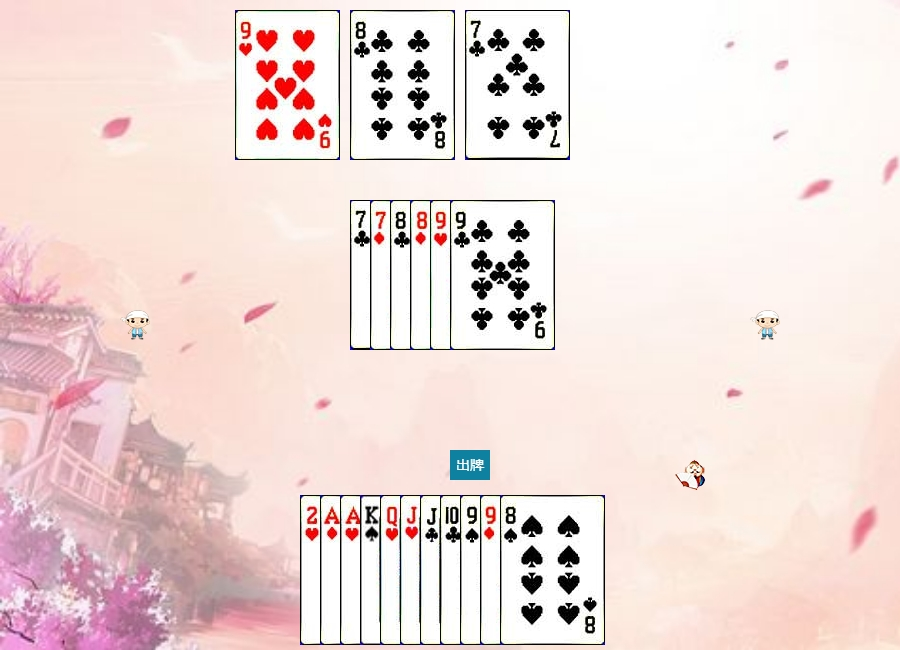10~2: (440, 495, 545, 645)
11~2: (420, 495, 525, 645)
11~3: (400, 495, 505, 645)
12~3: (380, 495, 485, 645)
13~4: (360, 495, 465, 645)
14~1: (320, 495, 425, 645)
14~3: (340, 495, 445, 645)
15~3: (300, 495, 405, 645)
7~1: (370, 200, 475, 350)
7~2: (465, 10, 570, 160), (350, 200, 455, 350)
8~1: (410, 200, 515, 350)
8~2: (350, 10, 455, 160), (390, 200, 495, 350)
8~4: (500, 495, 605, 645)
9~1: (480, 495, 585, 645)
9~2: (450, 200, 555, 350)
9~3: (235, 10, 340, 160), (430, 200, 535, 350)
9~4: (460, 495, 565, 645)
